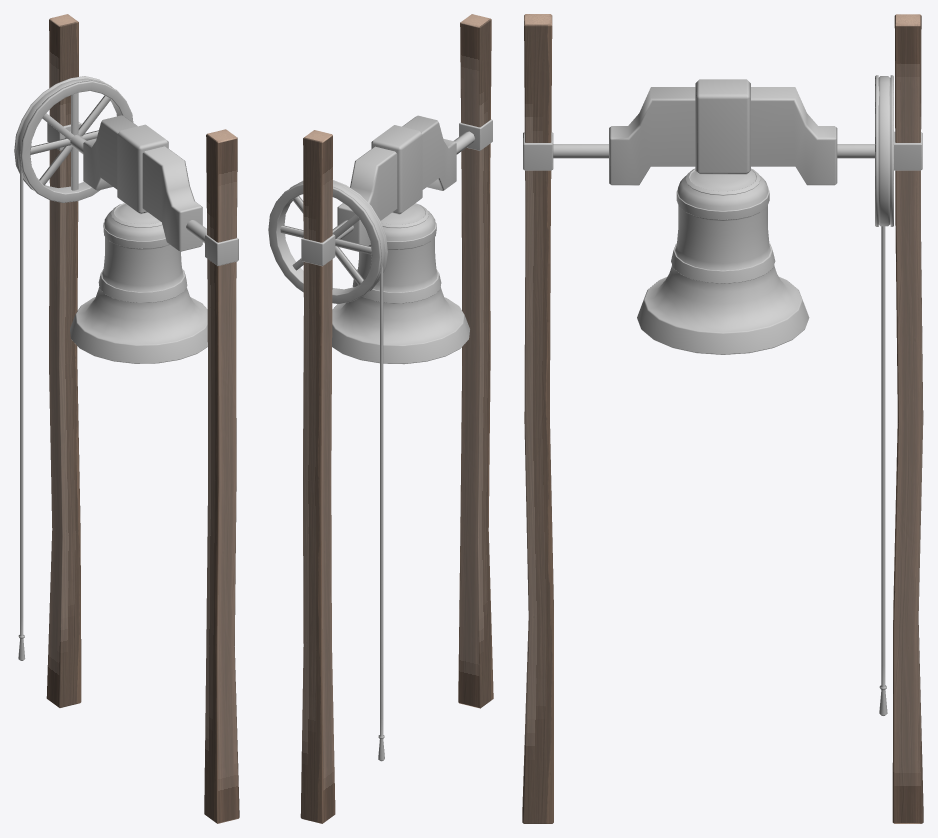
The model's file is SM_BellSmall_Grp.fbx.
3 views of the same model, side by side, from view 1: azimuth 30°, elevation 25°; view 2: azimuth 150°, elevation 25°; view 3: azimuth 270°, elevation 25° (orthographic). The views are drawn at different scales.
Visible parts, largest first — view 1: SM_BellSmall_Grp_LOD0; view 2: SM_BellSmall_Grp_LOD0; view 3: SM_BellSmall_Grp_LOD0.
Boxes of the visible parts, <box> form: SM_BellSmall_Grp_LOD0: <box>14,14,239,823</box>; SM_BellSmall_Grp_LOD0: <box>268,14,493,823</box>; SM_BellSmall_Grp_LOD0: <box>522,14,923,823</box>.
Bounding box in the file's own units: 87.62 × 204 × 448.
